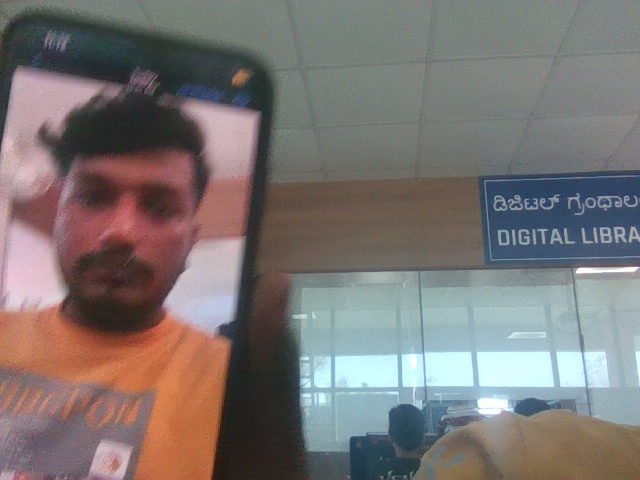fake: (32, 50, 232, 333)
